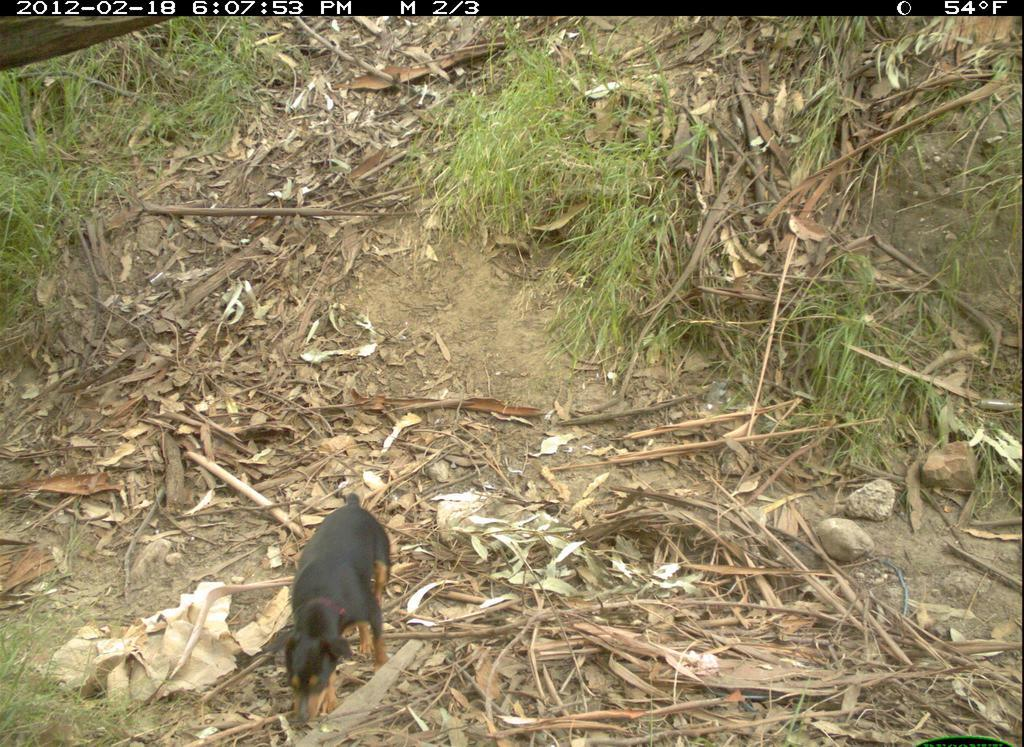dog: (269, 489, 402, 735)
